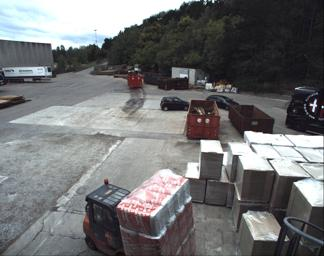rockwool_batts: (116, 172, 195, 255)
